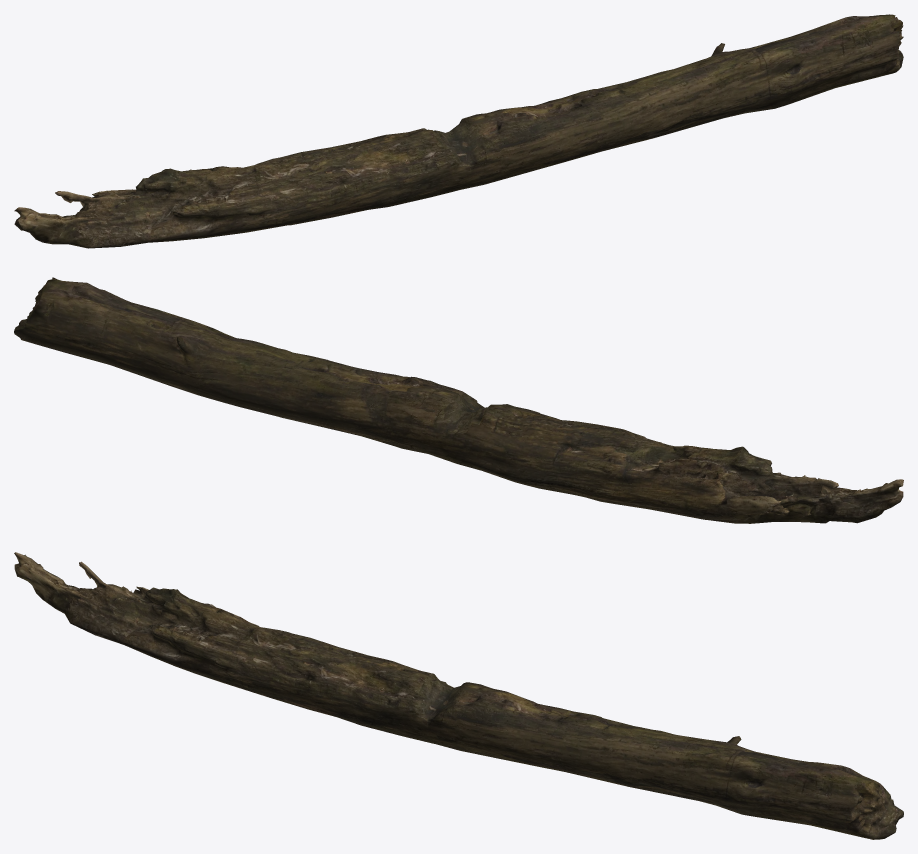
File: dead_tree_trunk.glb
3 views of the same model, one above another, from view 1: azimuth 30°, elevation 25°; view 2: azimuth 150°, elevation 25°; view 3: azimuth 330°, elevation 25° (orthographic).
Visible parts, largest first — view 1: dead_tree_trunk; view 2: dead_tree_trunk; view 3: dead_tree_trunk.
Part boxes in pixels (bbox=[...]): dead_tree_trunk: bbox=[14, 14, 903, 248]; dead_tree_trunk: bbox=[14, 277, 903, 523]; dead_tree_trunk: bbox=[14, 552, 903, 839].
Bounding box in the file's own units: 3.05 × 0.2905 × 0.2771.
1 material, 1 textured.
